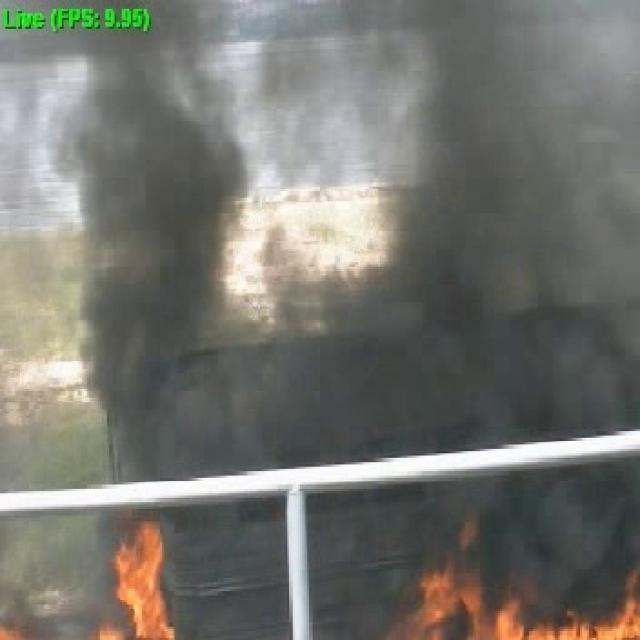Fire: (396, 558, 640, 640), (86, 522, 190, 640), (0, 622, 38, 640)
Smoke: (0, 0, 640, 484)
